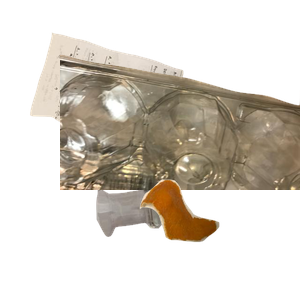glass: (94, 184, 253, 300)
paper: (27, 30, 203, 178)
plastic: (60, 52, 300, 232)
trash: (137, 177, 300, 300)
